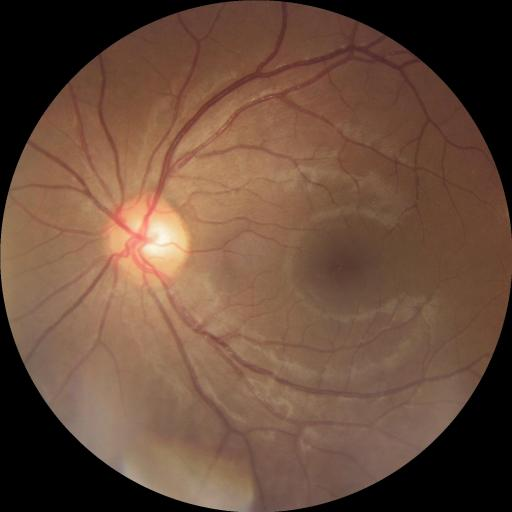Optic Cup: (135, 219, 172, 257)
Optic Disc: (106, 192, 191, 286)
